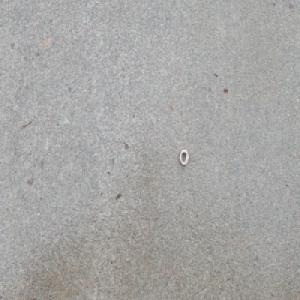Nut: (178, 148, 189, 166)
